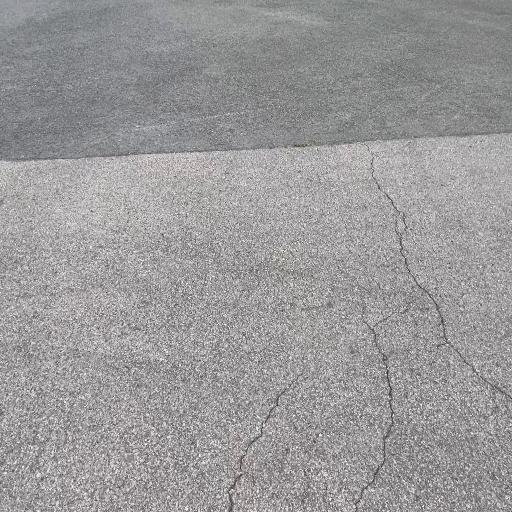Memanjang: (358, 142, 512, 433), (203, 359, 324, 512), (343, 308, 410, 512)
Sambungan: (0, 0, 512, 161)
